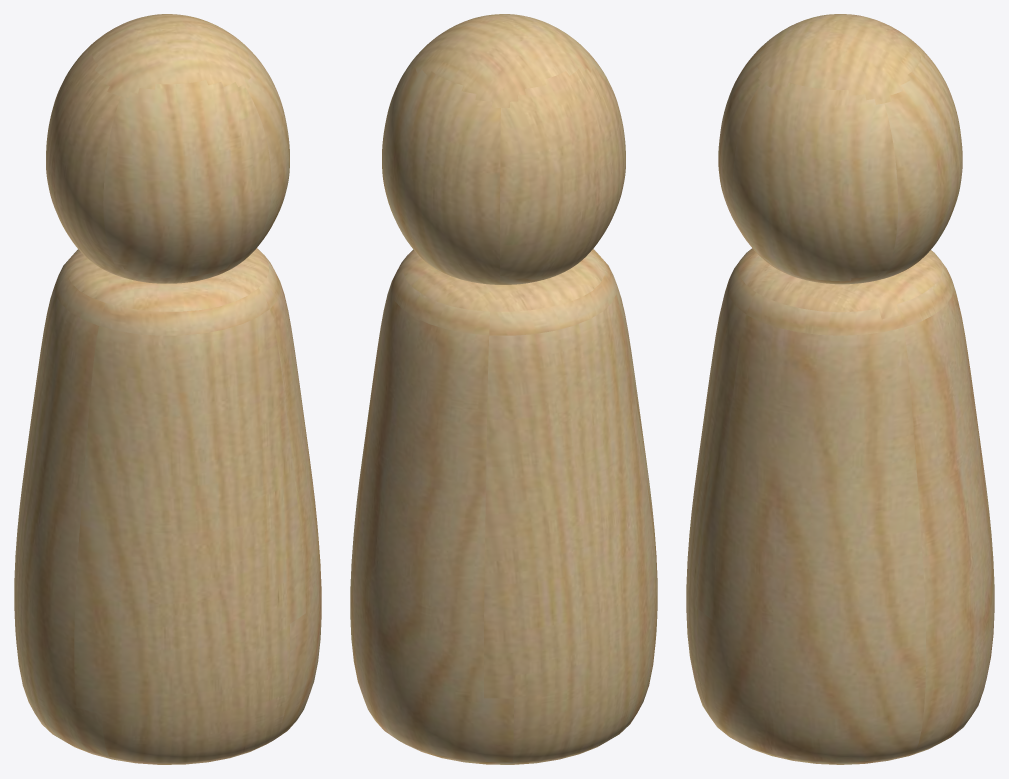
Rendered from toyboxpawn.glb.
3 renders of one model, left to right at view 1: azimuth 30°, elevation 25°; view 2: azimuth 150°, elevation 25°; view 3: azimuth 270°, elevation 25°, orthographic.
Parts seen in each view (by area): view 1: body; view 2: body; view 3: body.
Boxes of the visible parts, <box> form: body: <box>14,14,321,764</box>; body: <box>350,14,657,764</box>; body: <box>686,14,994,764</box>.
Size of the model in its own units: 1 by 2.48 by 1.
Materials: 1 (1 with a texture image).
